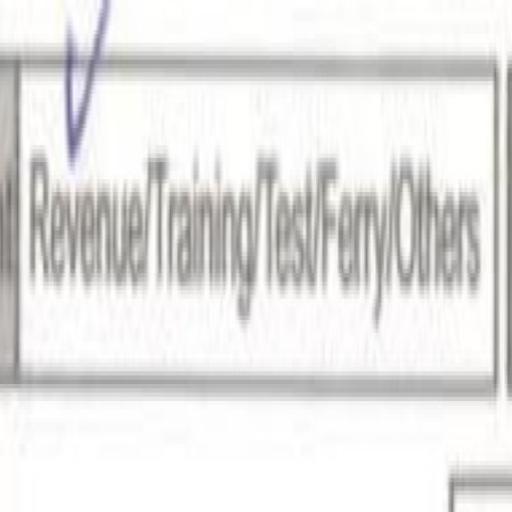check: (22, 0, 147, 512)
